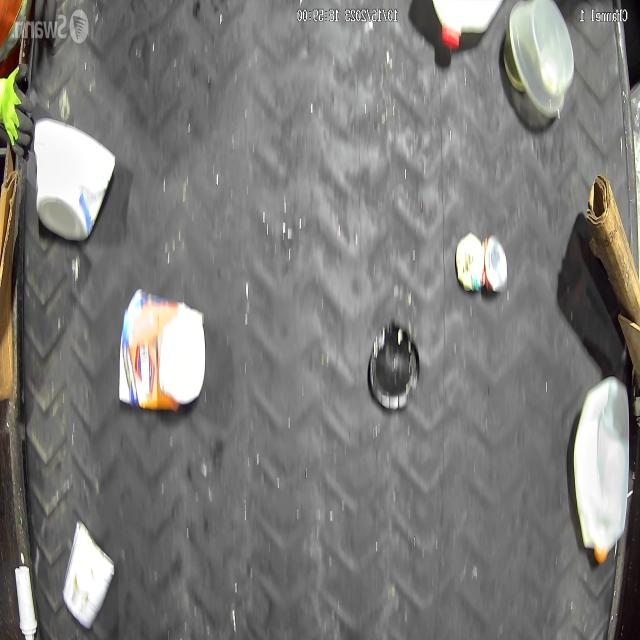can: (62, 520, 116, 628), (483, 236, 508, 294)
milk_jug: (31, 115, 114, 243), (574, 378, 630, 562), (431, 0, 505, 47)
non_white_jug: (117, 289, 205, 411)
plastic_bottle: (509, 0, 574, 114)
